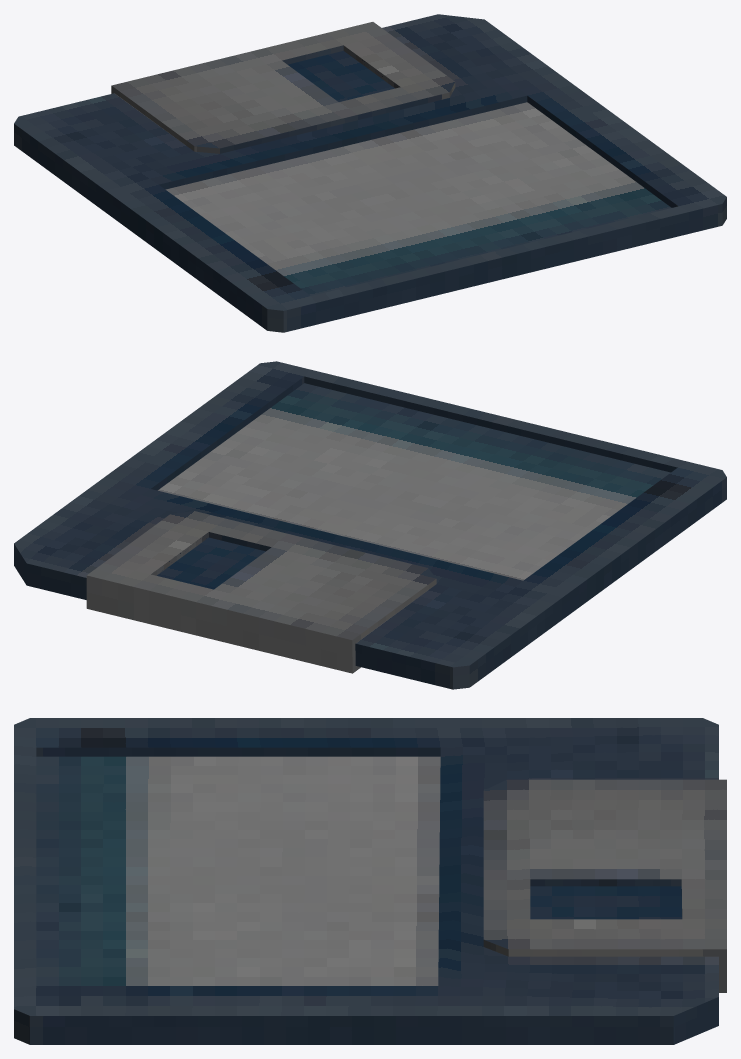
Rendered from floppy_disc_1.fbx.
3 renders of one model, top to bottom at view 1: azimuth 30°, elevation 25°; view 2: azimuth 150°, elevation 25°; view 3: azimuth 270°, elevation 25°, orthographic. The views are drawn at different scales.
Parts seen in each view (by area): view 1: floppy_disc_1; view 2: floppy_disc_1; view 3: floppy_disc_1.
Boxes of the visible parts, <box> form: floppy_disc_1: <box>14,14,726,332</box>; floppy_disc_1: <box>14,361,726,689</box>; floppy_disc_1: <box>14,718,726,1044</box>.
Size of the model in its own units: 15.84 by 1.08 by 16.02.
